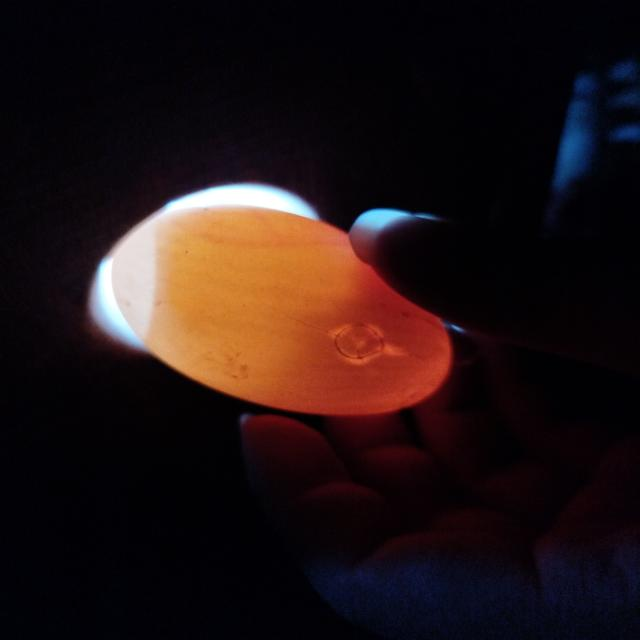Camara de Ar: (113, 220, 156, 345)
Gema Quebrada: (299, 276, 451, 415)
Rachadura: (334, 324, 386, 361)
